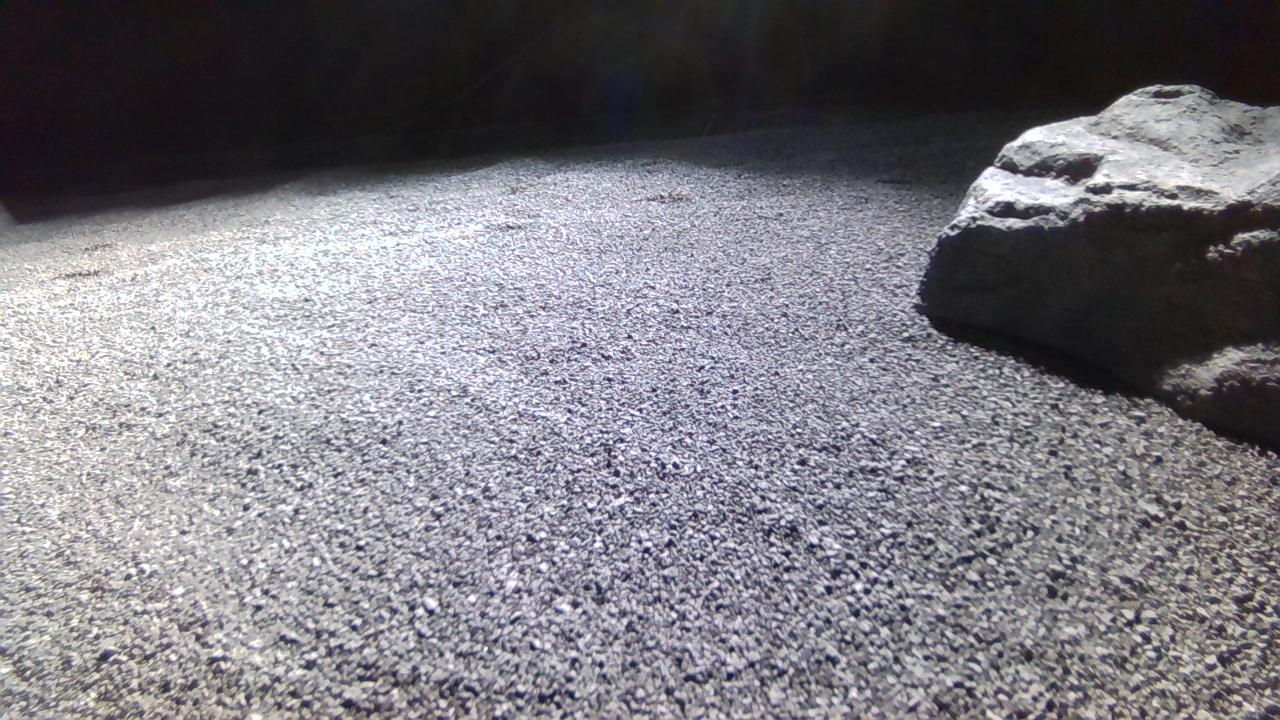rock: (923, 84, 1280, 446)
